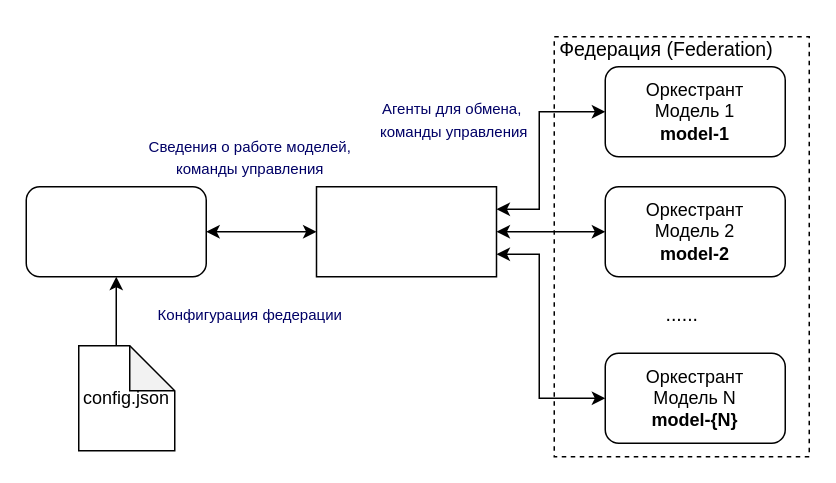
Image size: 836x483. Some labels were removed from this diagram. Each missing label, with the box of its shape:
Брокер сообщений Apachee Kafka: (315, 185, 496, 277)
Оркестратор Orchestrator: (25, 185, 206, 277)
